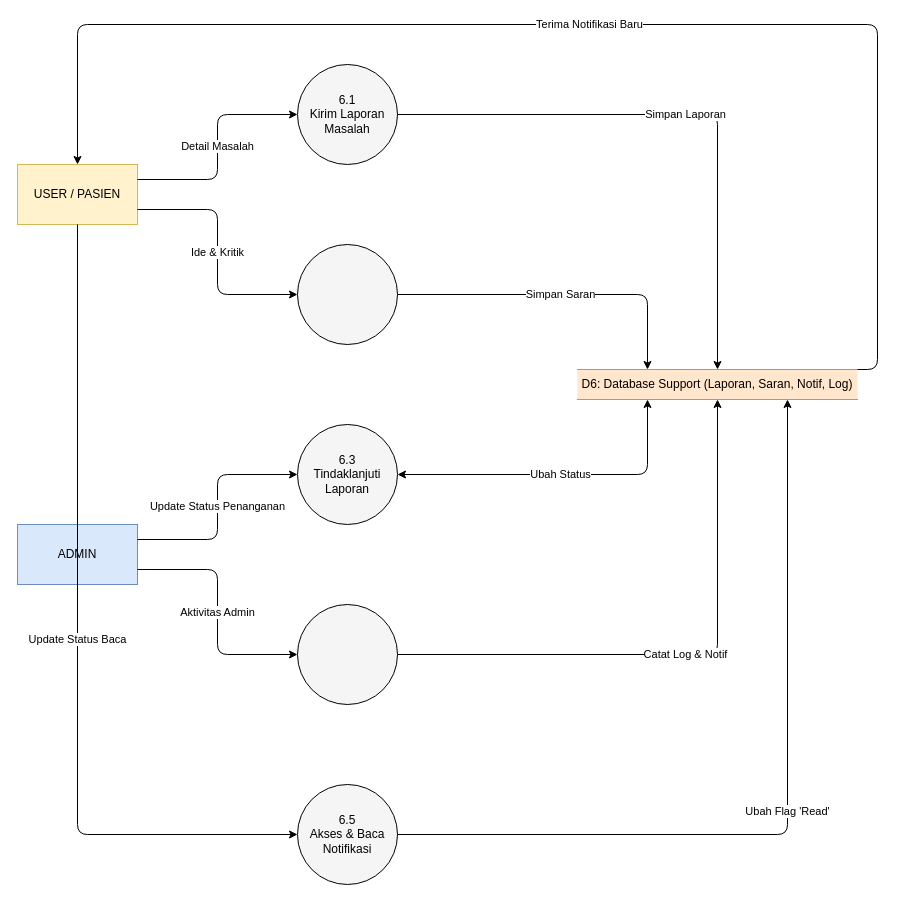
Some shapes in this 903 by 902 pixel diagram are drawn without their labels. Each missing label, with the centre of its shape:
"6.2 Kirim Saran & Masukan" goes at pixel 347 294.
"6.4 Generate Log & Notifikasi" goes at pixel 347 654.
